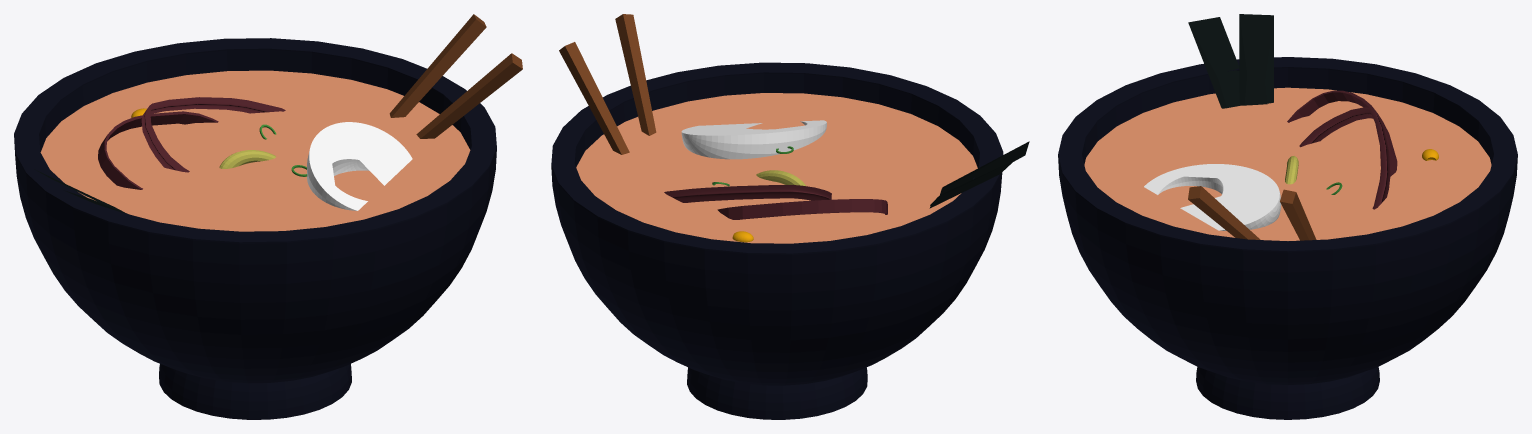
File: RamenBowl.fbx
3 views of the same model, side by side, from view 1: azimuth 30°, elevation 25°; view 2: azimuth 150°, elevation 25°; view 3: azimuth 270°, elevation 25° (orthographic). The views are drawn at different scales.
Parts seen in each view (by area): view 1: Bol, Soupe, Oeuf, Porc.001, Baguette, baguette 002, Porc, Noodle.001; view 2: Bol, Soupe, Oeuf, Porc, Porc.001, Baguette, baguette 002, Nori2, Nori, Noodle.001; view 3: Bol, Soupe, Oeuf, Nori, Nori2, Porc.001, Baguette, Porc, baguette 002.
Boxes of the visible parts, x1=… form: Bol: x1=14, y1=38, x2=496, y2=419; Soupe: x1=40, y1=70, x2=470, y2=231; Oeuf: x1=307, y1=122, x2=412, y2=210; Porc.001: x1=141, y1=97, x2=285, y2=172; Baguette: x1=416, y1=53, x2=522, y2=138; baguette 002: x1=389, y1=14, x2=486, y2=117; Porc: x1=98, y1=111, x2=218, y2=189; Noodle.001: x1=219, y1=150, x2=275, y2=168; Bol: x1=551, y1=62, x2=1003, y2=419; Soupe: x1=576, y1=93, x2=977, y2=243; Oeuf: x1=681, y1=120, x2=826, y2=159; Porc: x1=717, y1=199, x2=887, y2=219; Porc.001: x1=664, y1=185, x2=831, y2=202; Baguette: x1=615, y1=14, x2=656, y2=135; baguette 002: x1=559, y1=42, x2=629, y2=154; Nori2: x1=940, y1=141, x2=1029, y2=194; Nori: x1=929, y1=160, x2=1014, y2=208; Noodle.001: x1=756, y1=170, x2=805, y2=185; Bol: x1=1058, y1=57, x2=1517, y2=419; Soupe: x1=1084, y1=87, x2=1491, y2=240; Oeuf: x1=1144, y1=164, x2=1281, y2=230; Nori: x1=1239, y1=14, x2=1273, y2=105; Nori2: x1=1188, y1=17, x2=1240, y2=108; Porc.001: x1=1299, y1=107, x2=1390, y2=209; Baguette: x1=1188, y1=186, x2=1260, y2=239; Porc: x1=1287, y1=90, x2=1397, y2=176; baguette 002: x1=1280, y1=189, x2=1316, y2=240.
Bounding box in the file's own units: 88.1 × 56.22 × 80.
